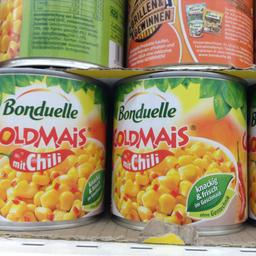corn: (110, 71, 248, 234), (0, 66, 110, 231), (127, 0, 254, 69), (0, 0, 123, 67)
